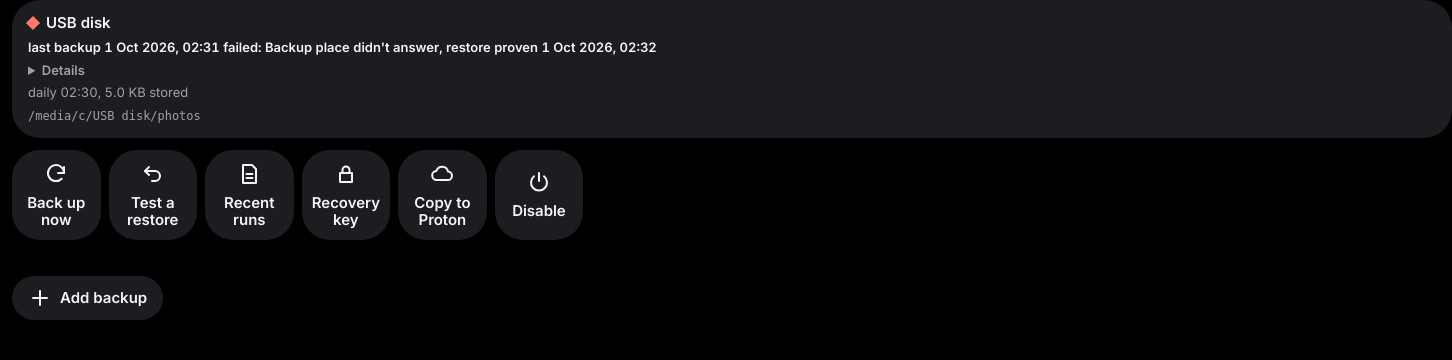
it: a failed backup › says what happened in plain words, the tool’s text only under Details
The width and height of the screenshot is (1452, 360).
Expected: the text "didn't answer" is shown, [28,39,439,55]
Expected: the text "repository not reachable: connection refused" is not shown
Click the heading "Details" at (63,70), box [42,62,85,78]
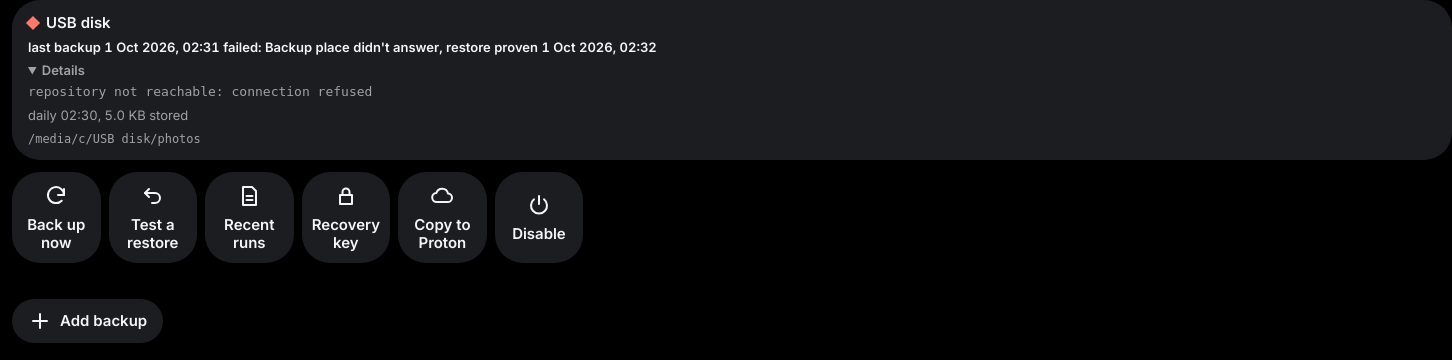
Expected: the text "repository not reachable: connection refused" is shown, [28,84,372,99]
